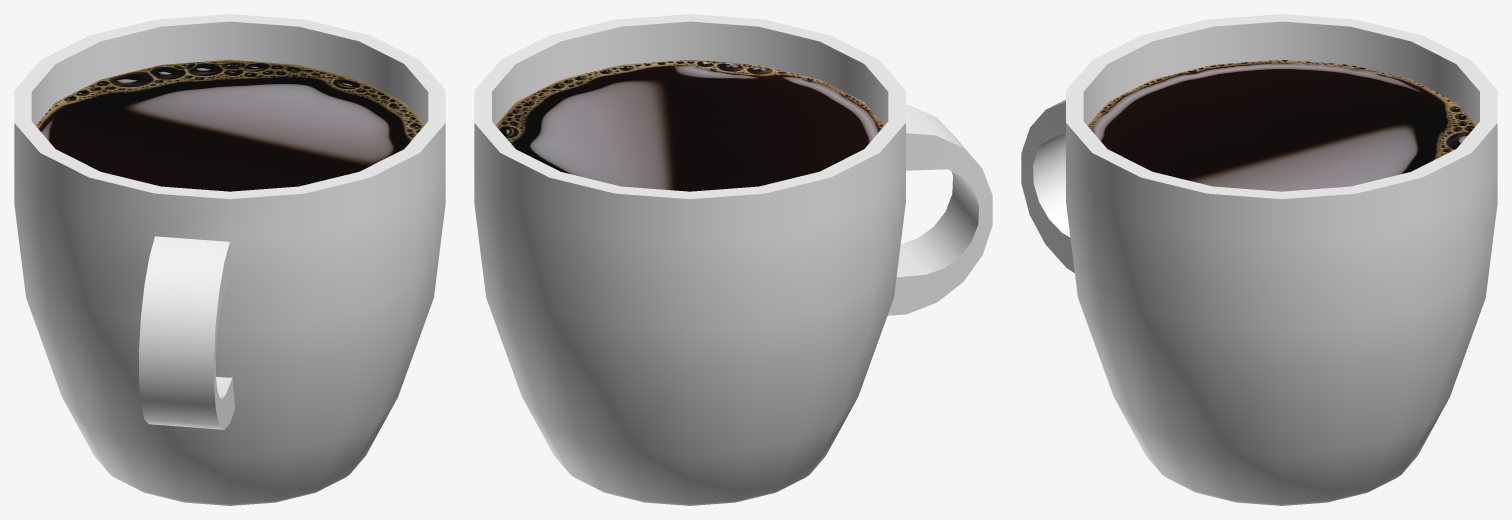
The model's file is Coffee 1.FBX.
3 renders of one model, left to right at view 1: azimuth 30°, elevation 25°; view 2: azimuth 150°, elevation 25°; view 3: azimuth 270°, elevation 25°, orthographic.
Parts seen in each view (by area): view 1: Coffee 1; view 2: Coffee 1; view 3: Coffee 1.
Boxes of the visible parts, box(x1,y1,x2,y2) form: Coffee 1: box(14, 14, 445, 505); Coffee 1: box(474, 14, 992, 505); Coffee 1: box(1021, 14, 1497, 505).
Bounding box in the file's own units: 15.42 × 13.08 × 16.46.
1 material, 1 textured.
